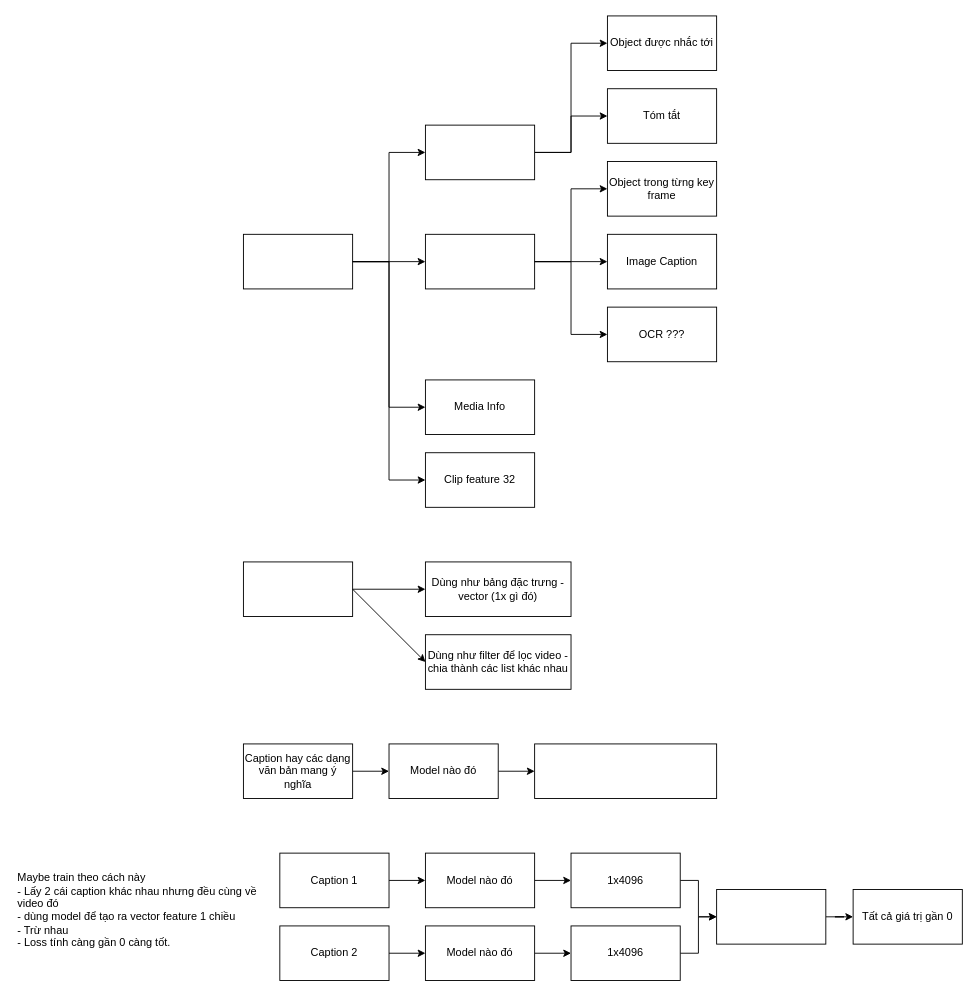
Some shapes in this 978 by 996 pixel diagram are drawn without their labels. The centre of each missing label's shape, as x and y in pixels:
"KeyFrame" goes at point (480, 261).
"List Object" goes at point (298, 589).
"Lấy caption 1 - cho caption 2" goes at point (771, 916).
"Video" goes at point (298, 261).
"Văn bản Âm thanh" goes at point (480, 152).
"Đặc trưng dạng 1 chiều - black box - vector (1 x 4096) ???" goes at point (625, 771).
